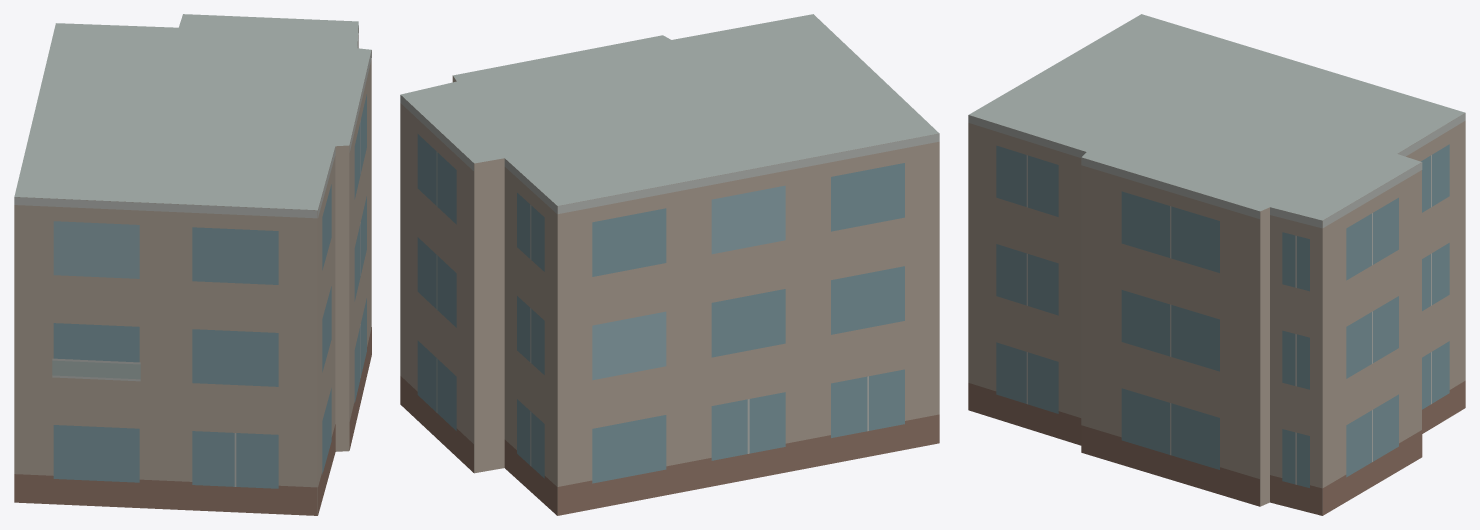
The model's file is survey-upis-32554510.glb.
The picture shows the model from 3 angles, left to right: view 1: azimuth 30°, elevation 25°; view 2: azimuth 150°, elevation 25°; view 3: azimuth 270°, elevation 25°; orthographic projection. The views are drawn at different scales.
Visible parts, largest first — view 1: survey-upis-32554510.tmp; view 2: survey-upis-32554510.tmp; view 3: survey-upis-32554510.tmp.
Part boxes in pixels (x1,y1,x2,y2): survey-upis-32554510.tmp: (14,14,371,515); survey-upis-32554510.tmp: (400,14,939,515); survey-upis-32554510.tmp: (968,14,1465,515).
Bounding box in the file's own units: 13.74 × 9.15 × 13.97.
